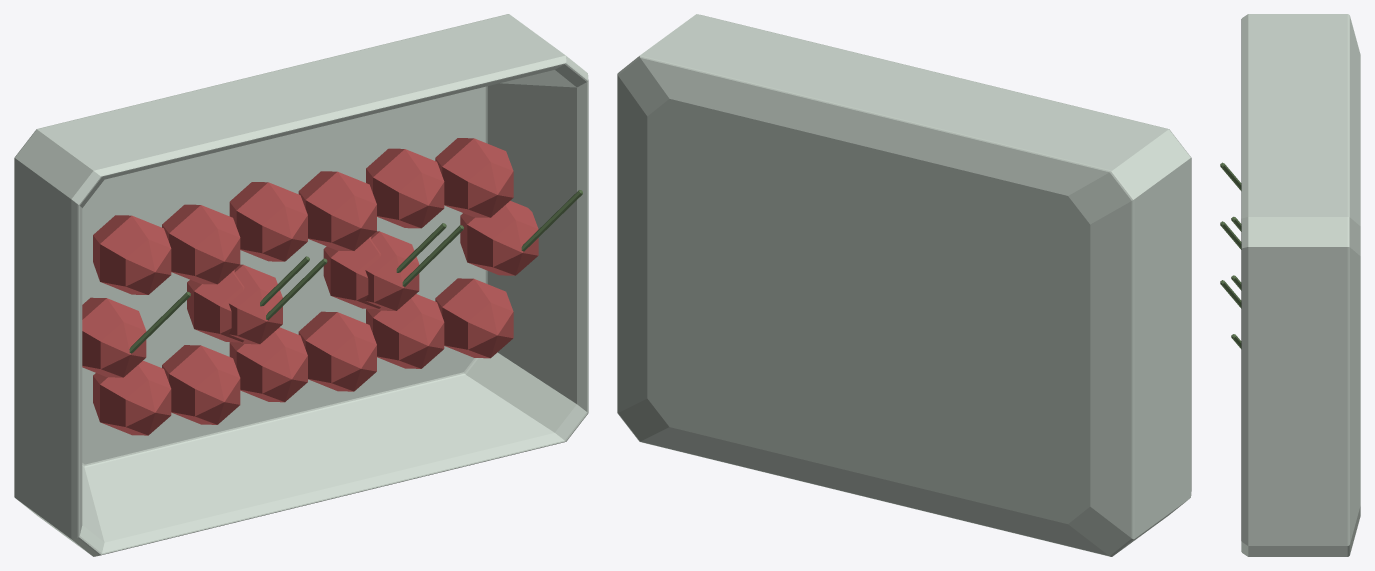
File: redcurrants.glb
3 renders of one model, left to right at view 1: azimuth 30°, elevation 25°; view 2: azimuth 150°, elevation 25°; view 3: azimuth 270°, elevation 25°, orthographic. The views are drawn at different scales.
Parts seen in each view (by area): view 1: redcurrants; view 2: redcurrants; view 3: redcurrants.
Boxes of the visible parts, bbox=[...] form: redcurrants: bbox=[14, 14, 588, 556]; redcurrants: bbox=[617, 14, 1191, 556]; redcurrants: bbox=[1220, 14, 1360, 556].
Bounding box in the file's own units: 0.14 × 0.1 × 0.0375.
